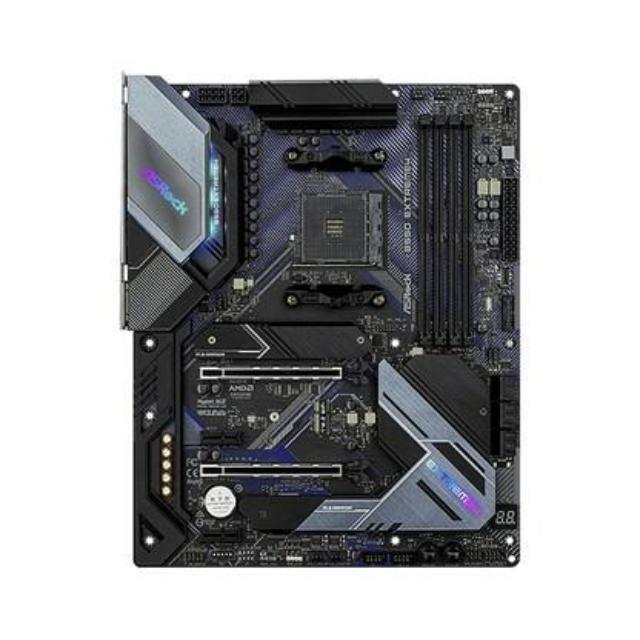Mainboard: (120, 66, 525, 572)
